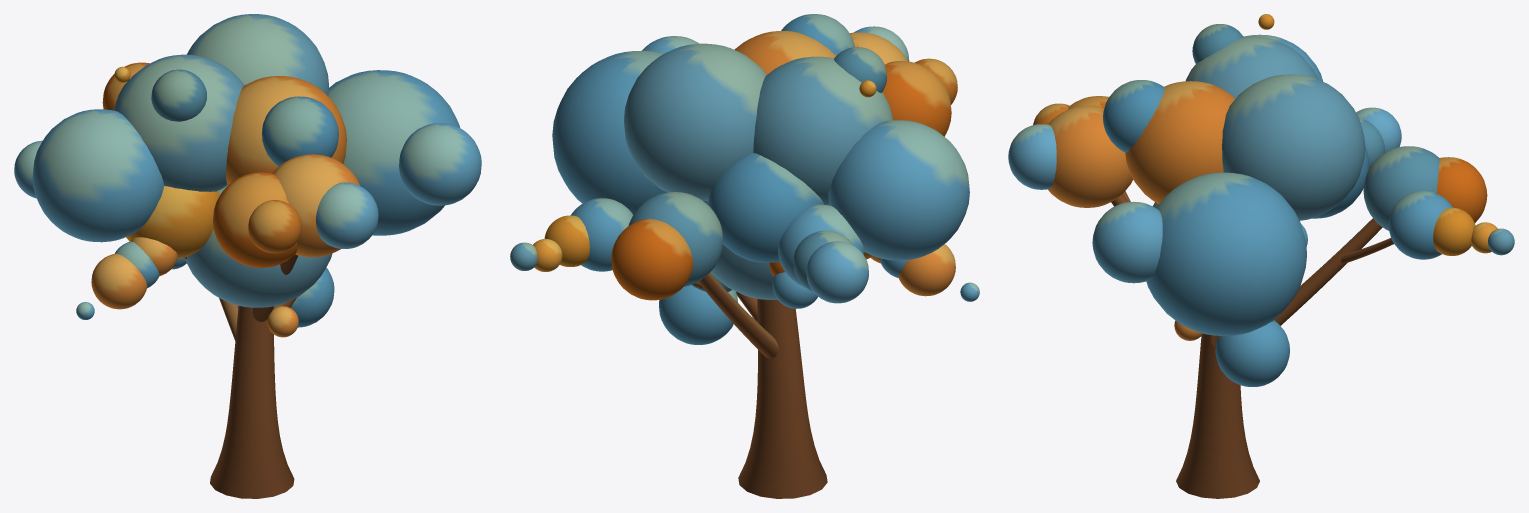
The model's file is canopy-tree-205.obj.
3 renders of one model, left to right at view 1: azimuth 30°, elevation 25°; view 2: azimuth 150°, elevation 25°; view 3: azimuth 270°, elevation 25°, orthographic. The views are drawn at different scales.
Parts seen in each view (by area): view 1: tree; view 2: tree; view 3: tree.
Boxes of the visible parts, x1,y1,x2,y2 form: tree: (14, 14, 481, 498); tree: (510, 14, 979, 498); tree: (1008, 14, 1514, 498).
Bounding box in the file's own units: 355 × 367 × 401.
